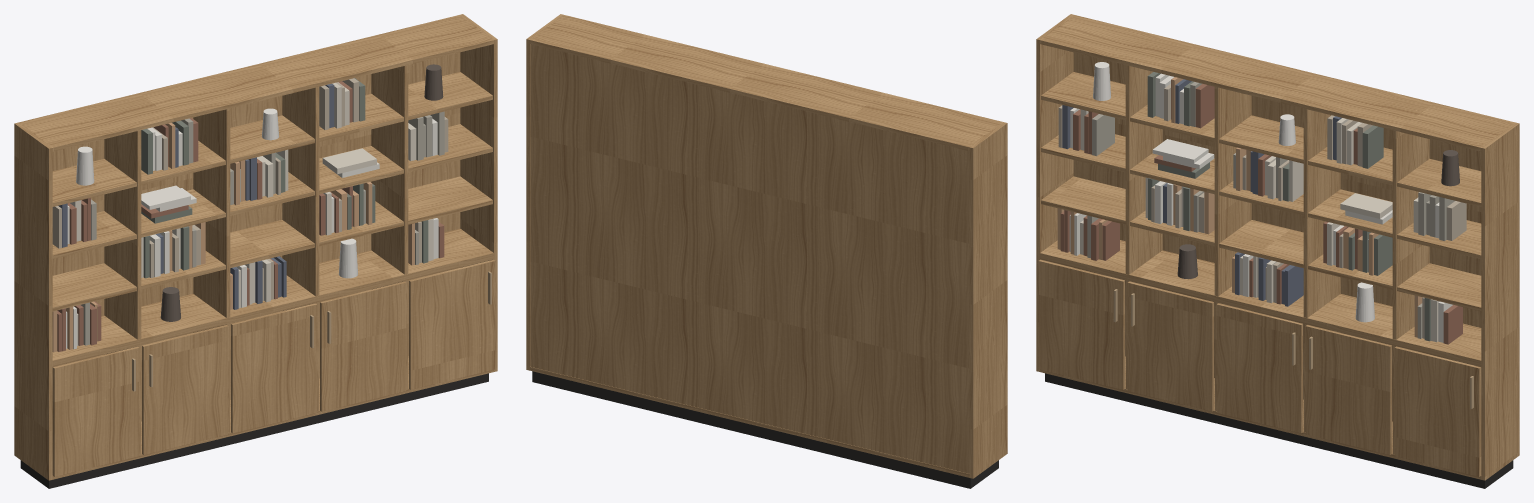
The model's file is libreria-300x220.glb.
3 renders of one model, left to right at view 1: azimuth 30°, elevation 25°; view 2: azimuth 150°, elevation 25°; view 3: azimuth 330°, elevation 25°, orthographic.
Visible parts, largest first — view 1: finitura, schienale, libro2, zoccolo, libro3, libro4, libro6, libro1, libro0, libro7, libro5, ceramica (+2 smaller); view 2: schienale, finitura, zoccolo; view 3: finitura, schienale, libro3, libro2, zoccolo, libro1, libro4, libro0, libro7, libro6, libro5, ceramica (+2 smaller).
Part boxes in pixels (x1,y1,x2,y2): finitura: (14,14,497,480); schienale: (52,52,460,421); libro2: (70,82,433,345); zoccolo: (20,373,488,488); libro3: (57,81,444,351); libro4: (66,118,438,349); libro6: (52,123,414,352); libro1: (141,78,428,278); libro0: (52,78,448,300); libro7: (81,111,444,345); libro5: (58,83,334,309); ceramica: (76,108,357,278); schienale: (530,44,969,473); finitura: (526,14,1007,478); zoccolo: (532,371,998,488); finitura: (1036,14,1519,480); schienale: (1073,52,1481,421); libro3: (1060,77,1462,344); libro2: (1080,109,1439,342); zoccolo: (1045,373,1513,488); libro1: (1147,72,1430,341); libro4: (1069,73,1452,342); libro0: (1058,84,1466,338); libro7: (1087,82,1455,338); libro6: (1057,77,1422,337); libro5: (1062,79,1341,306); ceramica: (1093,62,1374,322).
Bounding box in the file's own units: 3 × 2.2 × 0.445.
Materials: 15 (2 with a texture image).
